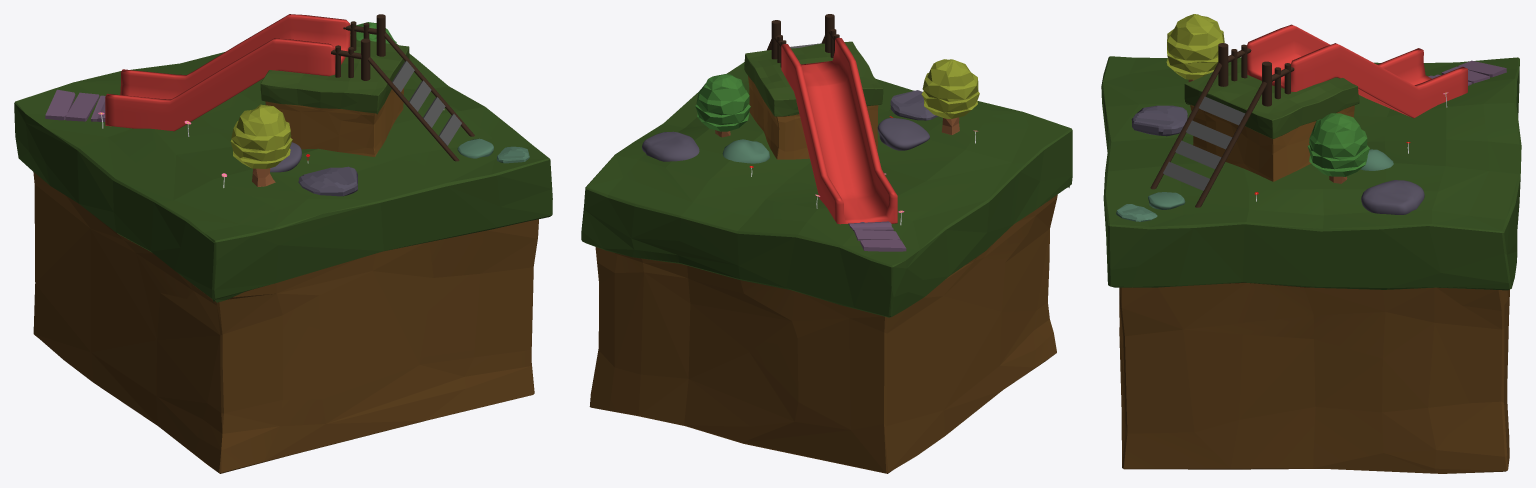
File: tile_slide.min.gltf
The picture shows the model from 3 angles, left to right: view 1: azimuth 30°, elevation 25°; view 2: azimuth 150°, elevation 25°; view 3: azimuth 270°, elevation 25°; orthographic projection. The views are drawn at different scales.
Parts seen in each view (by area): view 1: CENTERED.018, Cylinder.036, hill.000, Circle.014, Cube.022, Box001.002, Box002.005; view 2: CENTERED.018, Cylinder.036, hill.000, Circle.014, Circle.012, Box001.036, Box002.004, Cube.022, Box001.002, Box001.034; view 3: CENTERED.018, Cylinder.036, hill.000, Circle.012, Circle.014, Box001.036, Box001.002, Cube.022, Box002.005, Box001.035, Box001.034.
Boxes of the visible parts, box(x1,y1,x2,y2) form: CENTERED.018: box(14, 31, 552, 473); Cylinder.036: box(105, 14, 474, 161); hill.000: box(260, 40, 409, 156); Circle.014: box(230, 104, 292, 186); Cube.022: box(45, 89, 105, 121); Box001.002: box(298, 166, 357, 196); Box002.005: box(457, 138, 493, 158); CENTERED.018: box(581, 62, 1072, 473); Cylinder.036: box(766, 14, 897, 224); hill.000: box(744, 41, 883, 159); Circle.014: box(921, 59, 979, 134); Circle.012: box(695, 74, 750, 137); Box001.036: box(642, 131, 699, 161); Box002.004: box(877, 118, 929, 150); Cube.022: box(848, 221, 906, 251); Box001.002: box(890, 90, 938, 120); Box001.034: box(722, 139, 769, 163); CENTERED.018: box(1101, 56, 1521, 473); Cylinder.036: box(1150, 24, 1467, 207); hill.000: box(1184, 62, 1359, 181); Circle.012: box(1307, 113, 1369, 183); Circle.014: box(1166, 14, 1224, 81); Box001.036: box(1361, 180, 1424, 214); Box001.002: box(1131, 105, 1187, 136); Cube.022: box(1428, 60, 1506, 85); Box002.005: box(1148, 192, 1185, 209); Box001.035: box(1116, 204, 1157, 221); Box001.034: box(1360, 149, 1393, 170).
Size of the model in its own units: 1.07 by 1.05 by 1.09.
